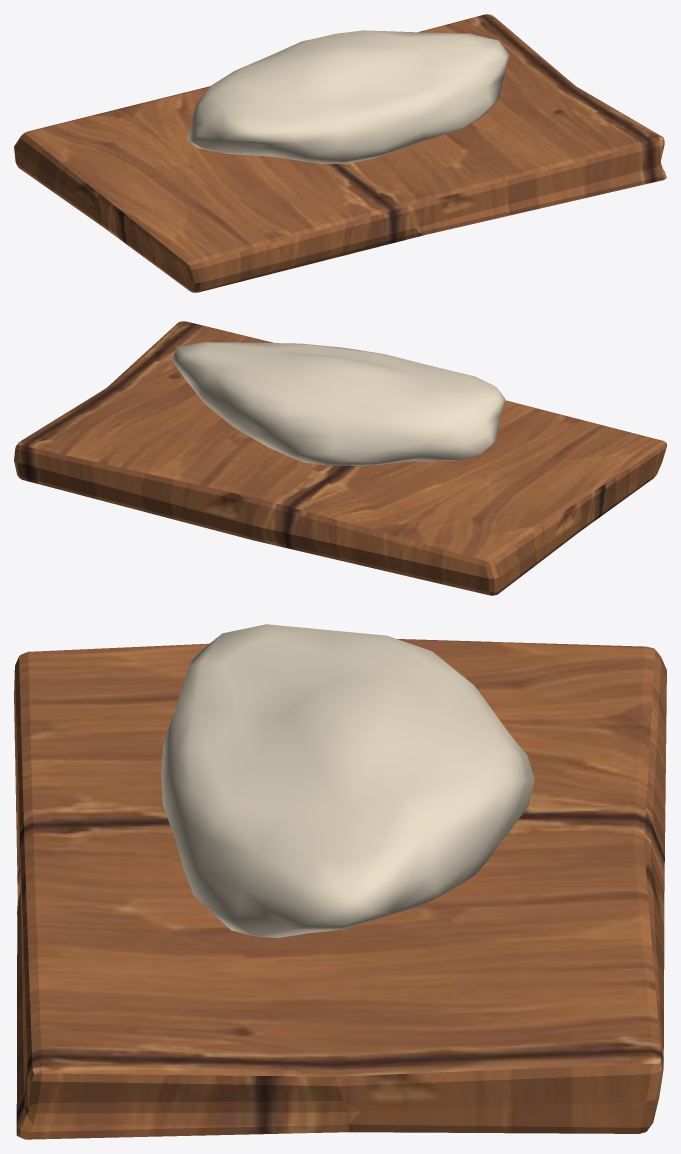
Rendered from dish_stalk_steak.glb.
3 views of the same model, one above another, from view 1: azimuth 30°, elevation 25°; view 2: azimuth 150°, elevation 25°; view 3: azimuth 270°, elevation 25° (orthographic). The views are drawn at different scales.
Parts seen in each view (by area): view 1: model; view 2: model; view 3: model.
Part boxes in pixels (box(x1,y1,x2,y2)): model: box(14, 14, 666, 292); model: box(14, 321, 666, 595); model: box(14, 624, 666, 1139).
Bounding box in the file's own units: 0.3246 × 0.0777 × 0.2052.
2 materials, 1 textured.
